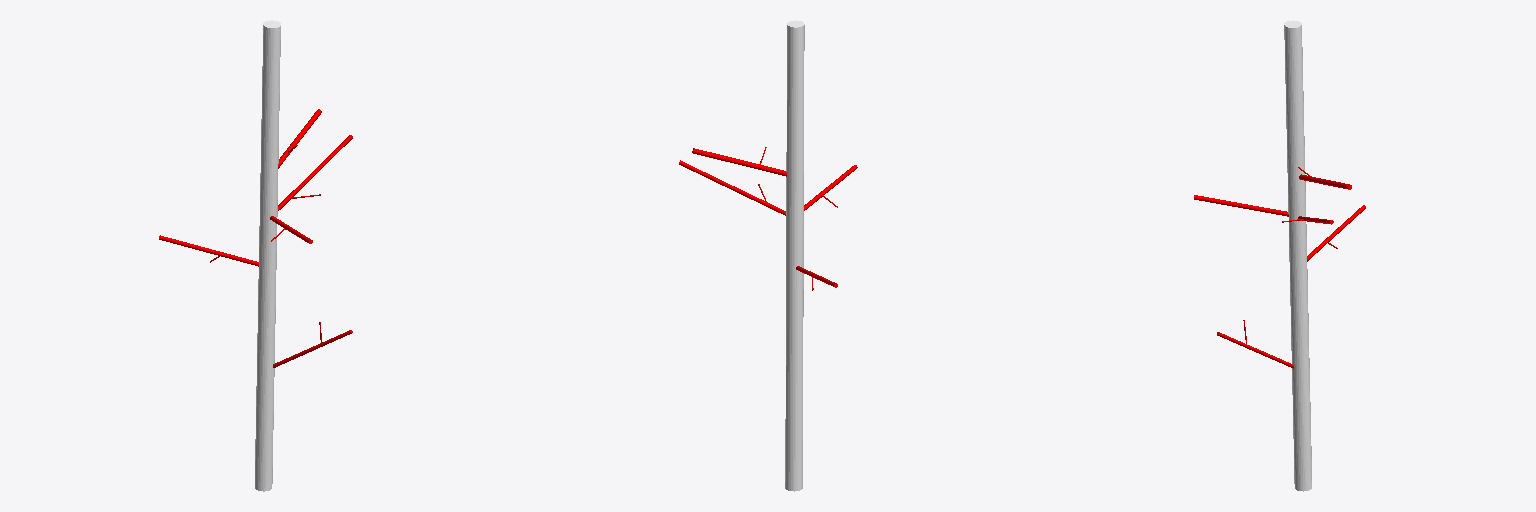
The robot description file, URDF, robot "tree_196.urdf":
<?xml version='1.0' encoding='UTF-8'?>
<robot name="tree_196.urdf">
  <link name="branch_0">
    <inertial>
      <origin xyz="0.0 0.0 0.0" rpy="0.0 -0.0 0.0"/>
      <mass value="0.1"/>
      <inertia ixx="0.001" ixy="0.0" ixz="0.0" iyy="0.001" iyz="0.0" izz="0.001"/>
    </inertial>
    <visual name="branch_0_visual">
      <geometry>
        <cylinder radius="0.12476115515236488" length="7.174746796533723"/>
      </geometry>
      <material name="branch_material"/>
      <origin xyz="0.027867874784993286 -0.07294475815694448 3.5865234339684893" rpy="0.0 0.02176885684801811 -1.2058672215751385"/>
    </visual>
    <collision name="branch_0_collision">
      <geometry>
        <cylinder radius="0.12476115515236488" length="7.174746796533723"/>
      </geometry>
      <origin xyz="0.027867874784993286 -0.07294475815694448 3.5865234339684893" rpy="0.0 0.02176885684801811 -1.2058672215751385"/>
    </collision>
  </link>
  <link name="branch_1">
    <inertial>
      <origin xyz="0.0 0.0 0.0" rpy="0.0 -0.0 0.0"/>
      <mass value="0.1"/>
      <inertia ixx="0.001" ixy="0.0" ixz="0.0" iyy="0.001" iyz="0.0" izz="0.001"/>
    </inertial>
    <visual name="branch_1_visual">
      <geometry>
        <cylinder radius="0.03093318597057934" length="1.8191424146669193"/>
      </geometry>
      <material name="semantic_material"/>
      <origin xyz="0.0 0.0 0.0" rpy="0.0 -0.0 0.0"/>
    </visual>
    <collision name="branch_1_collision">
      <geometry>
        <cylinder radius="0.03093318597057934" length="1.8191424146669193"/>
      </geometry>
      <origin xyz="0.0 0.0 0.0" rpy="0.0 -0.0 0.0"/>
    </collision>
  </link>
  <link name="branch_2">
    <inertial>
      <origin xyz="0.0 0.0 0.0" rpy="0.0 -0.0 0.0"/>
      <mass value="0.1"/>
      <inertia ixx="0.001" ixy="0.0" ixz="0.0" iyy="0.001" iyz="0.0" izz="0.001"/>
    </inertial>
    <visual name="branch_2_visual">
      <geometry>
        <cylinder radius="0.010068381400977646" length="0.4814716615150227"/>
      </geometry>
      <material name="semantic_material"/>
      <origin xyz="0.0 0.0 0.0" rpy="0.0 -0.0 0.0"/>
    </visual>
    <collision name="branch_2_collision">
      <geometry>
        <cylinder radius="0.010068381400977646" length="0.4814716615150227"/>
      </geometry>
      <origin xyz="0.0 0.0 0.0" rpy="0.0 -0.0 0.0"/>
    </collision>
  </link>
  <link name="branch_3">
    <inertial>
      <origin xyz="0.0 0.0 0.0" rpy="0.0 -0.0 0.0"/>
      <mass value="0.1"/>
      <inertia ixx="0.001" ixy="0.0" ixz="0.0" iyy="0.001" iyz="0.0" izz="0.001"/>
    </inertial>
    <visual name="branch_3_visual">
      <geometry>
        <cylinder radius="0.03330260998638804" length="1.4706737495874385"/>
      </geometry>
      <material name="semantic_material"/>
      <origin xyz="0.0 0.0 0.0" rpy="0.0 -0.0 0.0"/>
    </visual>
    <collision name="branch_3_collision">
      <geometry>
        <cylinder radius="0.03330260998638804" length="1.4706737495874385"/>
      </geometry>
      <origin xyz="0.0 0.0 0.0" rpy="0.0 -0.0 0.0"/>
    </collision>
  </link>
  <link name="branch_4">
    <inertial>
      <origin xyz="0.0 0.0 0.0" rpy="0.0 -0.0 0.0"/>
      <mass value="0.1"/>
      <inertia ixx="0.001" ixy="0.0" ixz="0.0" iyy="0.001" iyz="0.0" izz="0.001"/>
    </inertial>
    <visual name="branch_4_visual">
      <geometry>
        <cylinder radius="0.010586442671292844" length="0.3003526251380178"/>
      </geometry>
      <material name="semantic_material"/>
      <origin xyz="0.0 0.0 0.0" rpy="0.0 -0.0 0.0"/>
    </visual>
    <collision name="branch_4_collision">
      <geometry>
        <cylinder radius="0.010586442671292844" length="0.3003526251380178"/>
      </geometry>
      <origin xyz="0.0 0.0 0.0" rpy="0.0 -0.0 0.0"/>
    </collision>
  </link>
  <link name="branch_5">
    <inertial>
      <origin xyz="0.0 0.0 0.0" rpy="0.0 -0.0 0.0"/>
      <mass value="0.1"/>
      <inertia ixx="0.001" ixy="0.0" ixz="0.0" iyy="0.001" iyz="0.0" izz="0.001"/>
    </inertial>
    <visual name="branch_5_visual">
      <geometry>
        <cylinder radius="0.031229869495437983" length="1.5663142365838483"/>
      </geometry>
      <material name="semantic_material"/>
      <origin xyz="0.0 0.0 0.0" rpy="0.0 -0.0 0.0"/>
    </visual>
    <collision name="branch_5_collision">
      <geometry>
        <cylinder radius="0.031229869495437983" length="1.5663142365838483"/>
      </geometry>
      <origin xyz="0.0 0.0 0.0" rpy="0.0 -0.0 0.0"/>
    </collision>
  </link>
  <link name="branch_6">
    <inertial>
      <origin xyz="0.0 0.0 0.0" rpy="0.0 -0.0 0.0"/>
      <mass value="0.1"/>
      <inertia ixx="0.001" ixy="0.0" ixz="0.0" iyy="0.001" iyz="0.0" izz="0.001"/>
    </inertial>
    <visual name="branch_6_visual">
      <geometry>
        <cylinder radius="0.010128100155807432" length="0.2448184990839949"/>
      </geometry>
      <material name="semantic_material"/>
      <origin xyz="0.0 0.0 0.0" rpy="0.0 -0.0 0.0"/>
    </visual>
    <collision name="branch_6_collision">
      <geometry>
        <cylinder radius="0.010128100155807432" length="0.2448184990839949"/>
      </geometry>
      <origin xyz="0.0 0.0 0.0" rpy="0.0 -0.0 0.0"/>
    </collision>
  </link>
  <link name="branch_7">
    <inertial>
      <origin xyz="0.0 0.0 0.0" rpy="0.0 -0.0 0.0"/>
      <mass value="0.1"/>
      <inertia ixx="0.001" ixy="0.0" ixz="0.0" iyy="0.001" iyz="0.0" izz="0.001"/>
    </inertial>
    <visual name="branch_7_visual">
      <geometry>
        <cylinder radius="0.026622060501912147" length="1.624312541349993"/>
      </geometry>
      <material name="semantic_material"/>
      <origin xyz="0.0 0.0 0.0" rpy="0.0 -0.0 0.0"/>
    </visual>
    <collision name="branch_7_collision">
      <geometry>
        <cylinder radius="0.026622060501912147" length="1.624312541349993"/>
      </geometry>
      <origin xyz="0.0 0.0 0.0" rpy="0.0 -0.0 0.0"/>
    </collision>
  </link>
  <link name="branch_8">
    <inertial>
      <origin xyz="0.0 0.0 0.0" rpy="0.0 -0.0 0.0"/>
      <mass value="0.1"/>
      <inertia ixx="0.001" ixy="0.0" ixz="0.0" iyy="0.001" iyz="0.0" izz="0.001"/>
    </inertial>
    <visual name="branch_8_visual">
      <geometry>
        <cylinder radius="0.01" length="0.3848782528396072"/>
      </geometry>
      <material name="semantic_material"/>
      <origin xyz="0.0 0.0 0.0" rpy="0.0 -0.0 0.0"/>
    </visual>
    <collision name="branch_8_collision">
      <geometry>
        <cylinder radius="0.01" length="0.3848782528396072"/>
      </geometry>
      <origin xyz="0.0 0.0 0.0" rpy="0.0 -0.0 0.0"/>
    </collision>
  </link>
  <link name="branch_9">
    <inertial>
      <origin xyz="0.0 0.0 0.0" rpy="0.0 -0.0 0.0"/>
      <mass value="0.1"/>
      <inertia ixx="0.001" ixy="0.0" ixz="0.0" iyy="0.001" iyz="0.0" izz="0.001"/>
    </inertial>
    <visual name="branch_9_visual">
      <geometry>
        <cylinder radius="0.03800799988380722" length="1.5037629968852255"/>
      </geometry>
      <material name="semantic_material"/>
      <origin xyz="0.0 0.0 0.0" rpy="0.0 -0.0 0.0"/>
    </visual>
    <collision name="branch_9_collision">
      <geometry>
        <cylinder radius="0.03800799988380722" length="1.5037629968852255"/>
      </geometry>
      <origin xyz="0.0 0.0 0.0" rpy="0.0 -0.0 0.0"/>
    </collision>
  </link>
  <link name="branch_10">
    <inertial>
      <origin xyz="0.0 0.0 0.0" rpy="0.0 -0.0 0.0"/>
      <mass value="0.1"/>
      <inertia ixx="0.001" ixy="0.0" ixz="0.0" iyy="0.001" iyz="0.0" izz="0.001"/>
    </inertial>
    <visual name="branch_10_visual">
      <geometry>
        <cylinder radius="0.01" length="0.3129356416337961"/>
      </geometry>
      <material name="semantic_material"/>
      <origin xyz="0.0 0.0 0.0" rpy="0.0 -0.0 0.0"/>
    </visual>
    <collision name="branch_10_collision">
      <geometry>
        <cylinder radius="0.01" length="0.3129356416337961"/>
      </geometry>
      <origin xyz="0.0 0.0 0.0" rpy="0.0 -0.0 0.0"/>
    </collision>
  </link>
  <joint name="joint_0_1" type="fixed">
    <parent link="branch_0"/>
    <child link="branch_1"/>
    <axis xyz="1. 0. 0."/>
    <origin xyz="0.8395333578382579 0.15465175200406367 4.516797599444123" rpy="0.05731526508558219 1.1819507848598025 0.35040537010184686"/>
  </joint>
  <joint name="joint_0_3" type="fixed">
    <parent link="branch_0"/>
    <child link="branch_3"/>
    <axis xyz="1. 0. 0."/>
    <origin xyz="-0.045102274296818214 -0.8086577440796682 4.316107619779996" rpy="-0.06706891698875093 1.4220890453892934 -1.7457861087070707"/>
  </joint>
  <joint name="joint_0_5" type="fixed">
    <parent link="branch_0"/>
    <child link="branch_5"/>
    <axis xyz="1. 0. 0."/>
    <origin xyz="-0.5792360156314158 0.3929040216048878 3.600355286235772" rpy="-0.049523301384177265 1.338403147405665 2.4386923531015805"/>
  </joint>
  <joint name="joint_0_7" type="fixed">
    <parent link="branch_0"/>
    <child link="branch_7"/>
    <axis xyz="1. 0. 0."/>
    <origin xyz="0.370611857420069 -0.6157056107133688 2.268697613621906" rpy="0.007504670391552739 0.99133306766062 -1.0097057735729038"/>
  </joint>
  <joint name="joint_0_9" type="fixed">
    <parent link="branch_0"/>
    <child link="branch_9"/>
    <axis xyz="1. 0. 0."/>
    <origin xyz="0.6577257446721266 0.27469448858499296 5.0268290714568895" rpy="0.0787068854713061 1.2950542659278825 0.6229507489049296"/>
  </joint>
  <joint name="joint_1_2" type="fixed">
    <parent link="branch_0"/>
    <child link="branch_2"/>
    <axis xyz="1. 0. 0."/>
    <origin xyz="0.5829705749439629 -0.13460768187948377 4.391818540168541" rpy="-1.3243542342314134 0.3058143503585593 -2.2673473882648802"/>
  </joint>
  <joint name="joint_3_4" type="fixed">
    <parent link="branch_0"/>
    <child link="branch_4"/>
    <axis xyz="1. 0. 0."/>
    <origin xyz="-0.16498356268254136 -0.7214082704991583 4.227334502948405" rpy="-2.098968027666589 0.18627340419807628 1.5286641972126795"/>
  </joint>
  <joint name="joint_5_6" type="fixed">
    <parent link="branch_0"/>
    <child link="branch_6"/>
    <axis xyz="1. 0. 0."/>
    <origin xyz="-0.5315308596238298 0.3967615462210299 3.4930413511665646" rpy="-2.691998867671951 0.7859646273894149 -0.3993652079223122"/>
  </joint>
  <joint name="joint_7_8" type="fixed">
    <parent link="branch_0"/>
    <child link="branch_8"/>
    <axis xyz="1. 0. 0."/>
    <origin xyz="0.454067960825882 -0.8107132176892097 2.5931205141330342" rpy="-0.16437862455309507 -0.003743194934526513 2.232297300041094"/>
  </joint>
  <joint name="joint_9_10" type="fixed">
    <parent link="branch_0"/>
    <child link="branch_10"/>
    <axis xyz="1. 0. 0."/>
    <origin xyz="0.4857711562920278 0.04678357724387699 5.0691522537091736" rpy="-0.7887670886021757 0.3670977782077074 -2.6952830334495523"/>
  </joint>
  <material name="branch_material">
    <color rgba="1. 1. 1. 1."/>
  </material>
  <material name="semantic_material">
    <color rgba="1. 0. 0. 1."/>
  </material>
</robot>

--- Render facts (derived) ---
Views: 3 orthographic renders of the robot side by side, from view 1: azimuth 30°, elevation 25°; view 2: azimuth 150°, elevation 25°; view 3: azimuth 270°, elevation 25°.
Robot: tree_196.urdf — 11 links, 10 joints (10 fixed); root link branch_0; default pose: every joint at zero.
Links seen in each view (by area): view 1: branch_0; view 2: branch_0; view 3: branch_0.
Boxes of the visible links, <box> form: branch_0: <box>255,20,280,491</box>; branch_0: <box>785,20,804,491</box>; branch_0: <box>1284,20,1311,491</box>.
Size in the robot's own frame: 2.87 by 2.42 by 7.18 metres.
Geometry: primitives only (box / cylinder / sphere), no mesh files.
